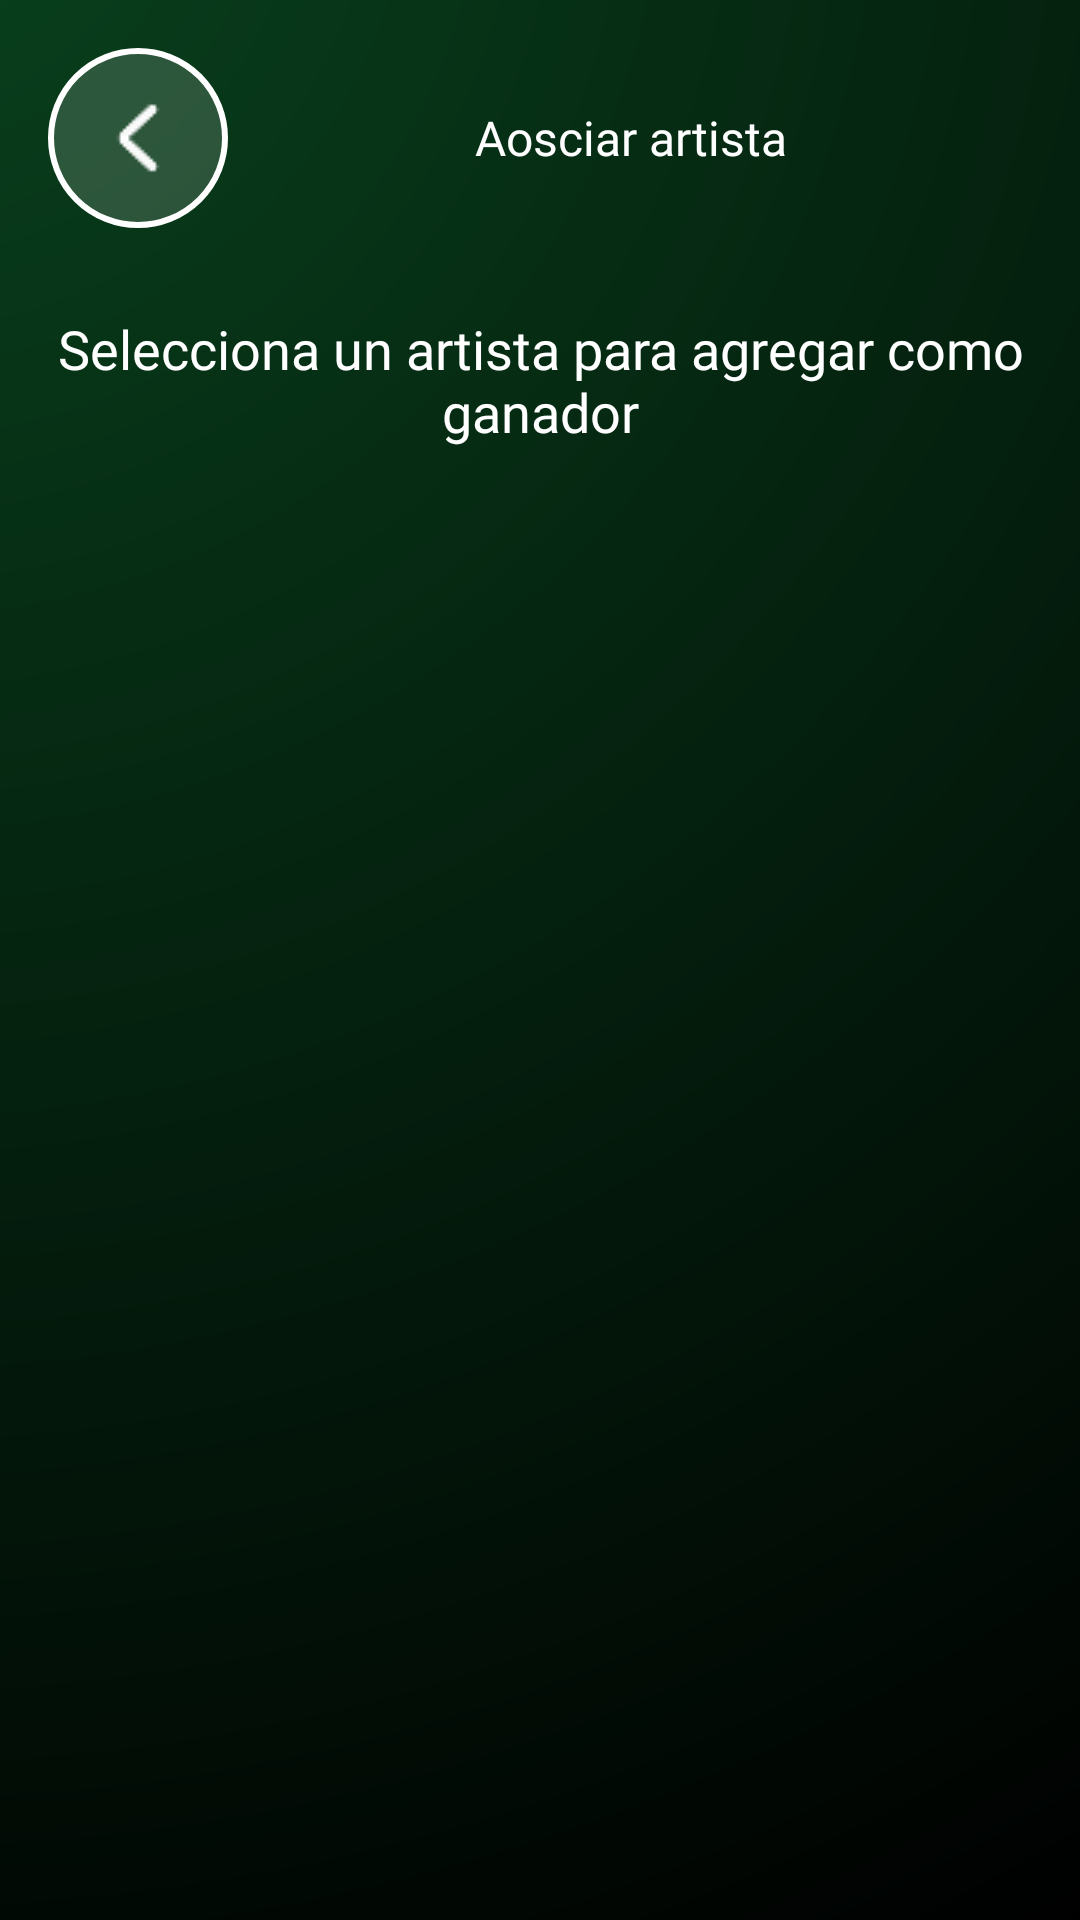

Named icons in this screenshot (1080 × 1920) and their centers, (x=x, y=y):
Volver a premio: (x=138, y=138)
